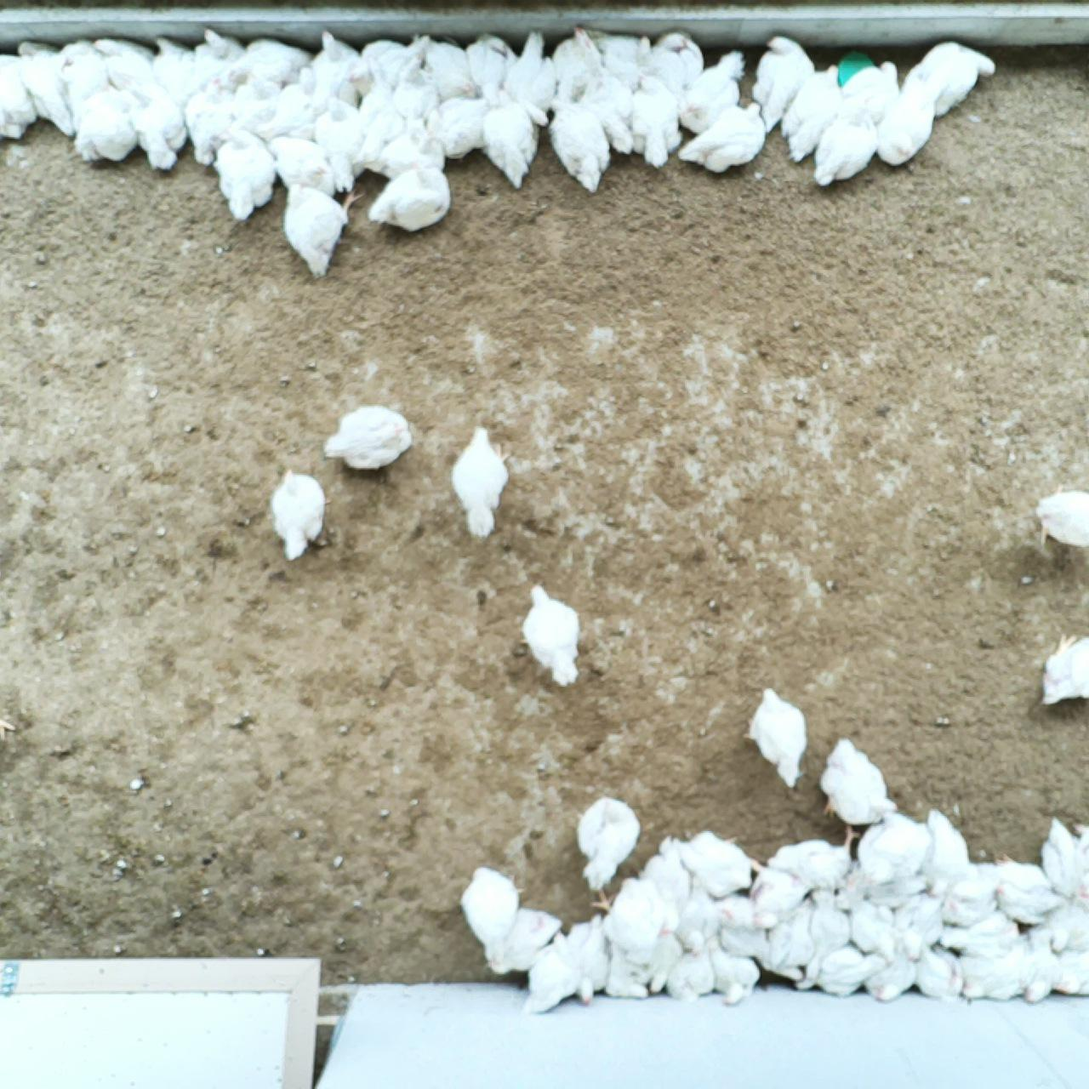chicken: (285, 182, 364, 276), (824, 736, 899, 828), (460, 867, 526, 966), (913, 41, 996, 118), (453, 427, 510, 539), (747, 687, 807, 790), (752, 36, 815, 132), (577, 793, 641, 887), (782, 61, 843, 159), (681, 102, 765, 172), (548, 97, 608, 193), (523, 585, 580, 685), (218, 127, 277, 223), (368, 165, 452, 232), (324, 405, 412, 468), (672, 831, 754, 898), (483, 96, 538, 188), (272, 467, 324, 563), (681, 51, 747, 126), (634, 73, 685, 170), (814, 108, 876, 187), (770, 827, 859, 882), (490, 909, 564, 975), (855, 819, 925, 887), (314, 93, 364, 188), (133, 93, 195, 169), (72, 93, 136, 166), (19, 40, 72, 128), (591, 882, 662, 947), (524, 932, 580, 1013), (881, 87, 937, 165), (506, 33, 554, 124), (996, 852, 1056, 924), (566, 916, 613, 1007), (747, 855, 807, 926), (762, 901, 816, 979), (267, 135, 334, 195), (708, 934, 761, 1009), (589, 77, 635, 158), (187, 78, 231, 162), (923, 807, 968, 889), (641, 834, 690, 908), (841, 59, 901, 119), (433, 97, 493, 156), (269, 64, 315, 140), (944, 867, 1000, 927), (1046, 816, 1086, 899), (1041, 634, 1089, 703), (313, 29, 360, 99), (818, 945, 880, 998), (1037, 486, 1089, 549), (1015, 928, 1057, 1006), (469, 28, 516, 97), (421, 33, 475, 93), (94, 37, 157, 86), (364, 78, 404, 155), (194, 26, 247, 82), (850, 897, 895, 959), (893, 895, 945, 948), (641, 929, 683, 994), (237, 37, 305, 77), (668, 945, 716, 1001), (152, 34, 198, 91), (656, 33, 705, 86), (1045, 899, 1089, 958), (0, 51, 30, 137), (915, 946, 964, 998), (361, 33, 428, 70), (865, 954, 917, 1001), (402, 55, 439, 121), (553, 26, 599, 77), (602, 31, 657, 73), (54, 39, 104, 85), (812, 890, 849, 950), (1053, 947, 1089, 1000), (711, 897, 755, 930)
